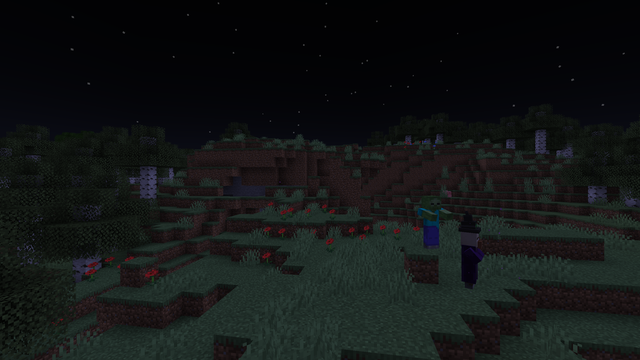cochons: (443, 190, 451, 196)
sorcieres: (457, 227, 483, 290)
zombies: (421, 196, 441, 249)
